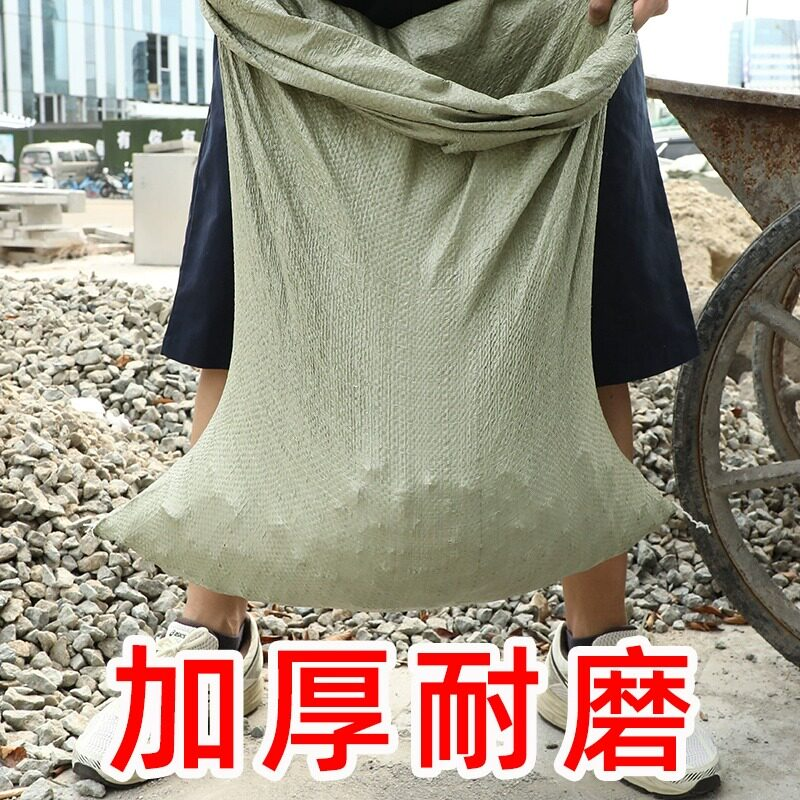Parcel: (103, 0, 665, 607)
